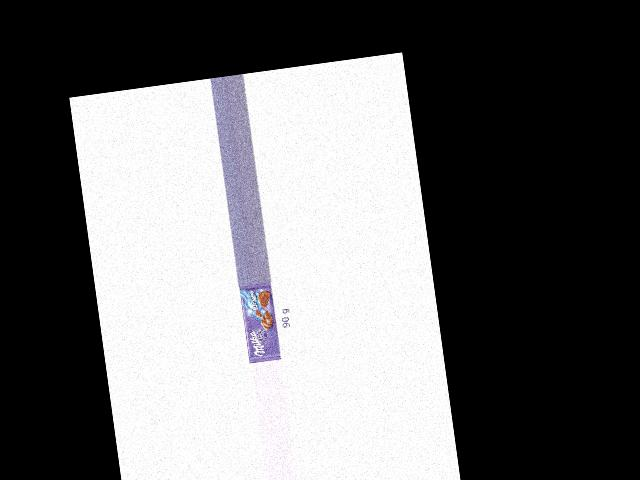chocolate: (238, 281, 280, 362)
